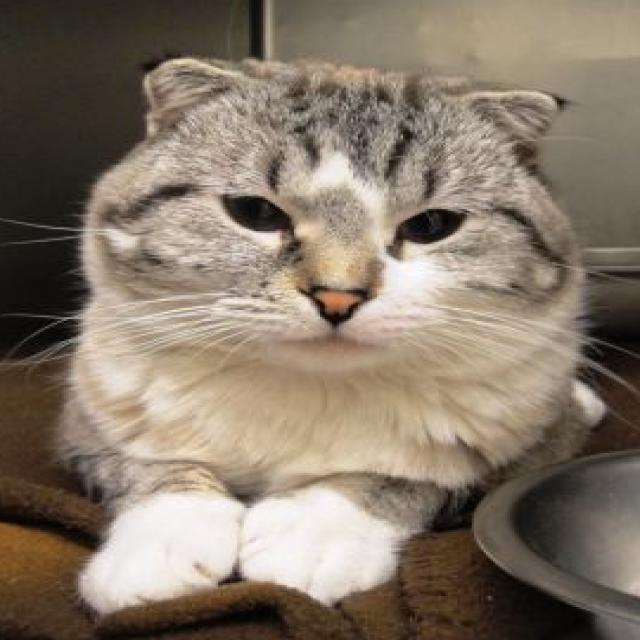Scottish Fold: (47, 47, 615, 623)
